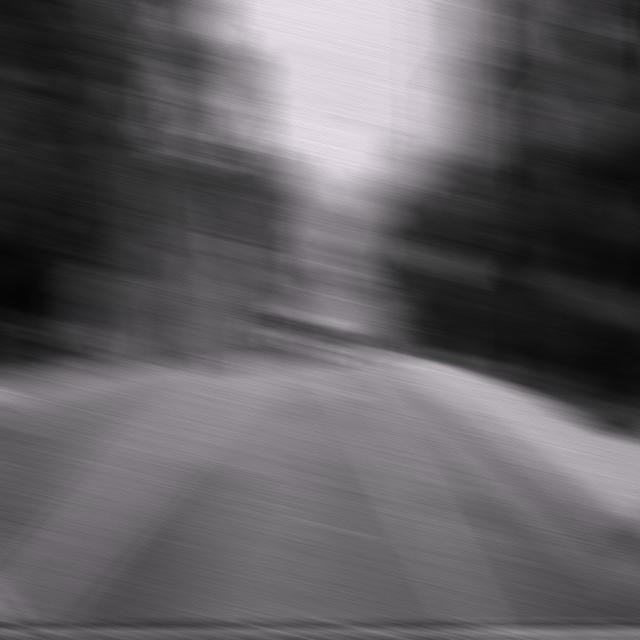pedestrianCrossing: (419, 237, 466, 286)
